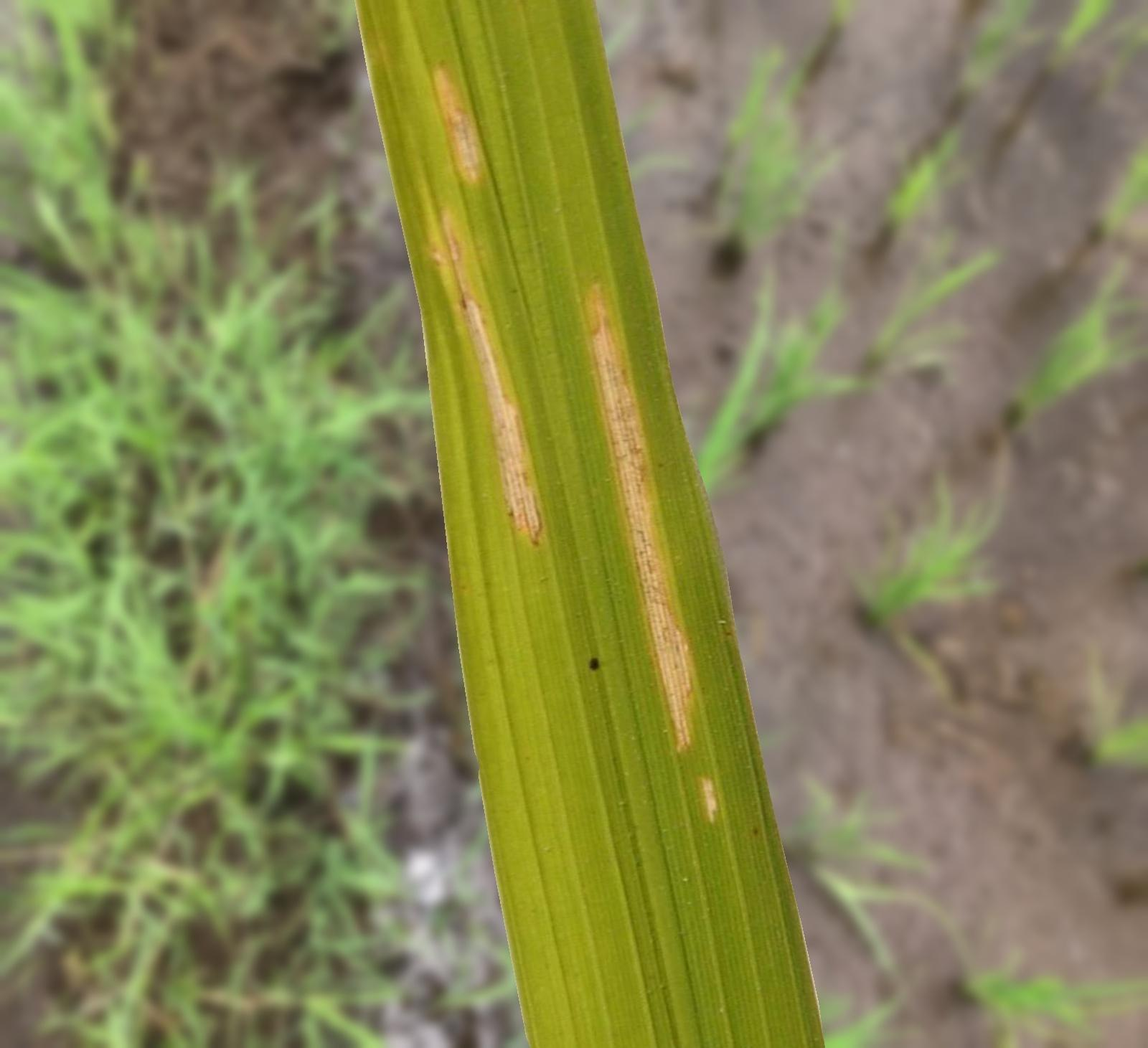BLS: (588, 284, 694, 754), (441, 212, 542, 544), (437, 70, 483, 182)
LEAF: (355, 0, 824, 1047)
